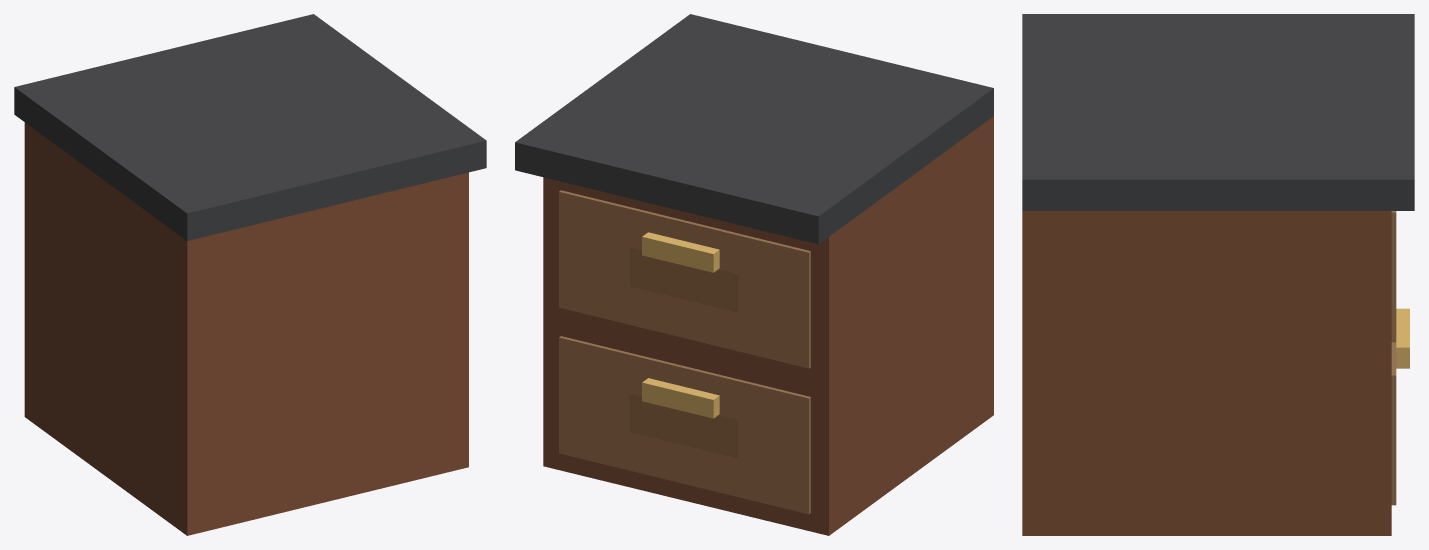
Rendered from cornercabinet.fbx.
The picture shows the model from 3 angles, left to right: view 1: azimuth 30°, elevation 25°; view 2: azimuth 150°, elevation 25°; view 3: azimuth 270°, elevation 25°; orthographic projection. The views are drawn at different scales.
Parts seen in each view (by area): view 1: cube, cube_1; view 2: cube, cube_1, cube_3, cube_2, cube_4, cube_5; view 3: cube, cube_1, cube_2, cube_4, cube_3.
Part boxes in pixels (x1,y1,x2,y2): cube: [24, 122, 468, 535]; cube_1: [14, 14, 486, 240]; cube: [543, 116, 993, 535]; cube_1: [515, 14, 993, 244]; cube_3: [559, 190, 810, 368]; cube_2: [559, 336, 810, 514]; cube_4: [642, 378, 719, 418]; cube_5: [642, 232, 719, 272]; cube: [1022, 211, 1391, 535]; cube_1: [1022, 14, 1414, 210]; cube_2: [1391, 342, 1396, 505]; cube_4: [1396, 308, 1409, 368]; cube_3: [1391, 211, 1396, 342].
Size of the model in its own units: 53.12 by 54.69 by 53.12.
1 material, 1 textured.
